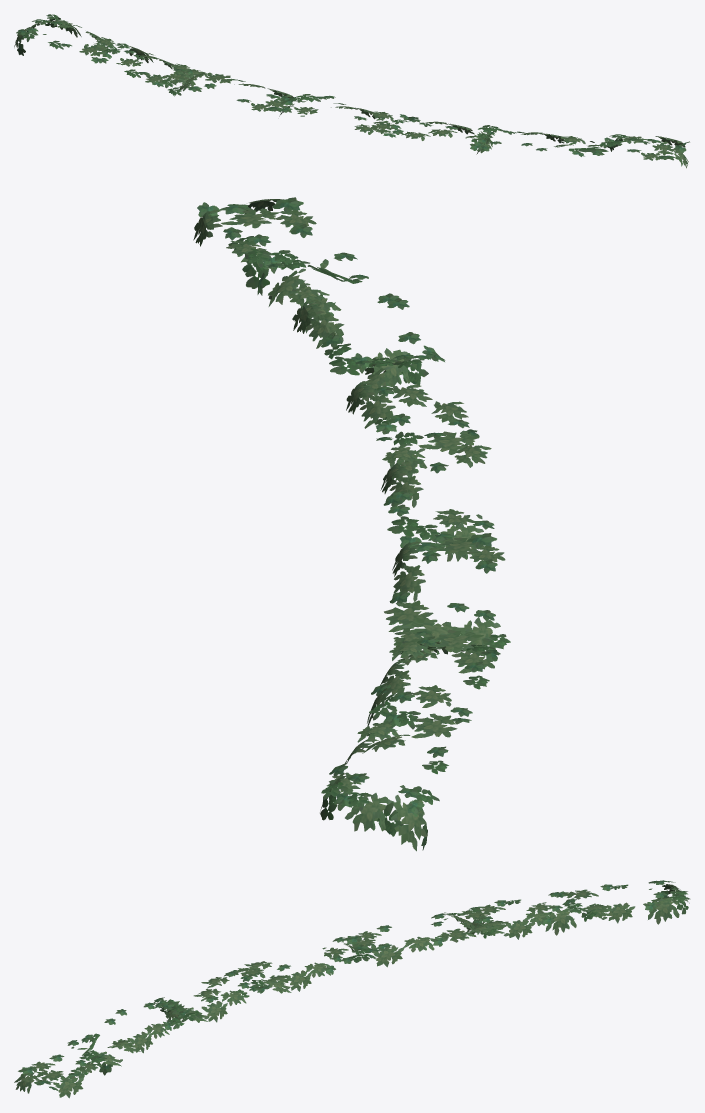
File: pref_sm_beach_bk_pointmol_grassplant09_lv1.fbx
The picture shows the model from 3 angles, top to bottom: view 1: azimuth 30°, elevation 25°; view 2: azimuth 150°, elevation 25°; view 3: azimuth 270°, elevation 25°; orthographic projection. The views are drawn at different scales.
Parts seen in each view (by area): view 1: pref_sm_beach_bk_pointmol_grassplant09_lv1; view 2: pref_sm_beach_bk_pointmol_grassplant09_lv1; view 3: pref_sm_beach_bk_pointmol_grassplant09_lv1.
Boxes of the visible parts, x1=… form: pref_sm_beach_bk_pointmol_grassplant09_lv1: x1=14, y1=14, x2=689, y2=168; pref_sm_beach_bk_pointmol_grassplant09_lv1: x1=193, y1=197, x2=510, y2=851; pref_sm_beach_bk_pointmol_grassplant09_lv1: x1=14, y1=880, x2=690, y2=1098.
Bounding box in the file's own units: 16.4 × 1.17 × 22.19.
